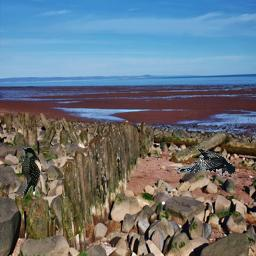Crow: (176, 148, 235, 177)
Woodpecker: (21, 147, 41, 199)
